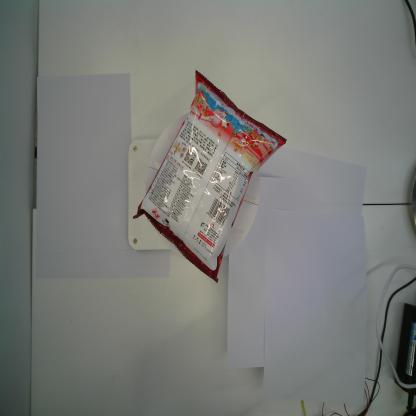Puffed Food: (132, 68, 288, 284)
